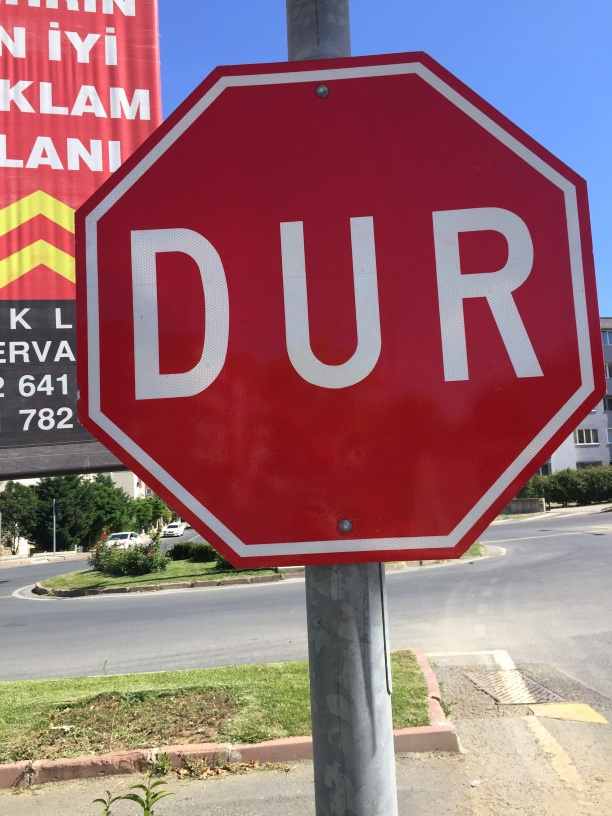arac_dur_isareti: (54, 105, 596, 559)
